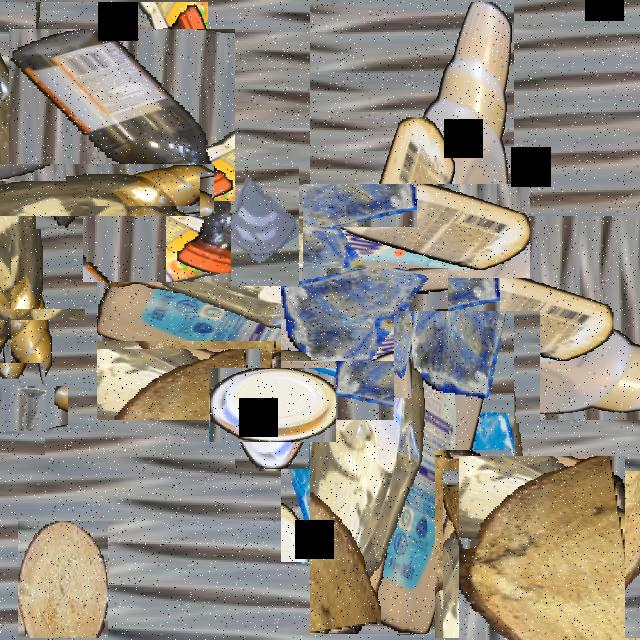glass: (300, 249, 430, 380), (281, 412, 365, 562), (231, 166, 299, 286), (0, 271, 48, 357)
metal: (421, 279, 507, 365), (0, 374, 56, 443)
plastic: (203, 109, 621, 527), (394, 311, 540, 638), (22, 16, 222, 215), (0, 82, 133, 297), (336, 151, 497, 311), (102, 165, 238, 301), (222, 355, 322, 456)
wood: (450, 463, 632, 640), (435, 450, 511, 638), (18, 521, 108, 638)
